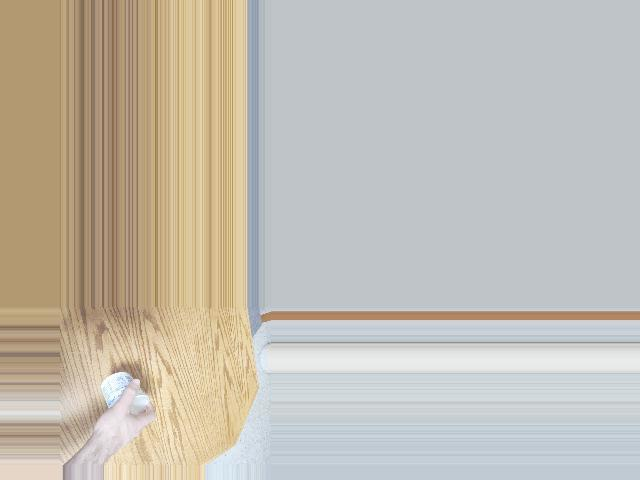cotage: (95, 370, 150, 414)
